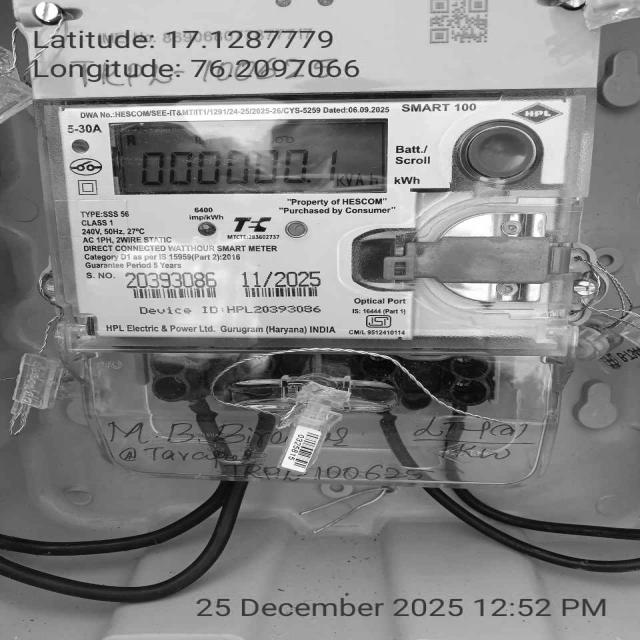meter: (42, 98, 582, 340)
